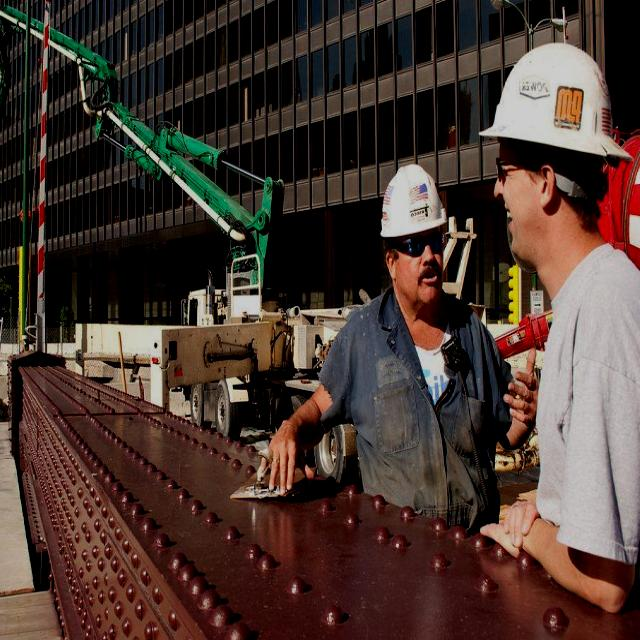goggles: (480, 146, 572, 200), (372, 219, 451, 270)
helmet: (481, 34, 630, 174), (374, 159, 452, 246)
no-vest: (508, 250, 640, 581), (346, 292, 482, 502)
